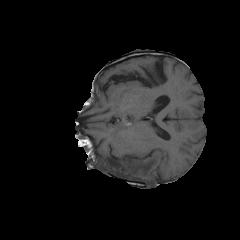glioma: (84, 140, 160, 184)
